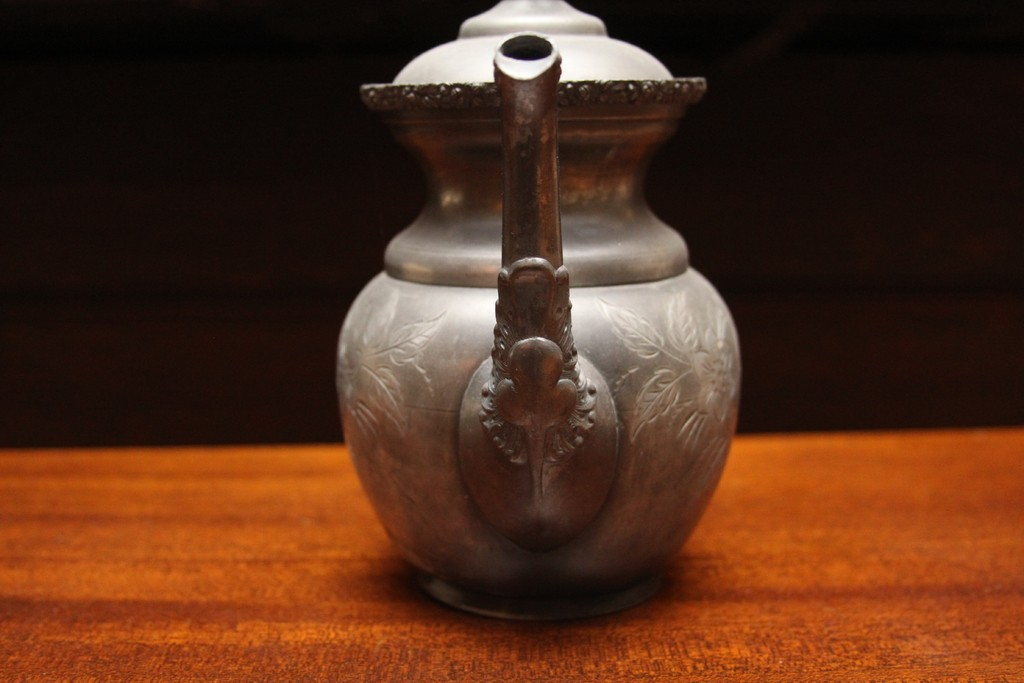teapot: (334, 0, 743, 624)
